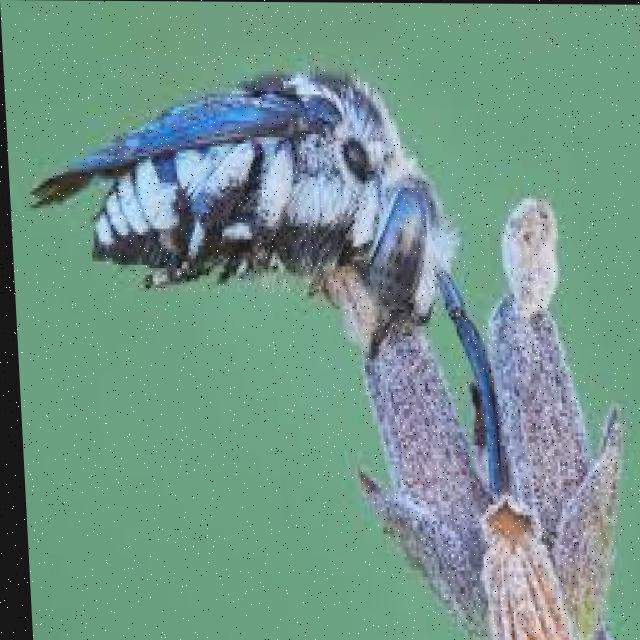Thyreus: (28, 46, 530, 494)
